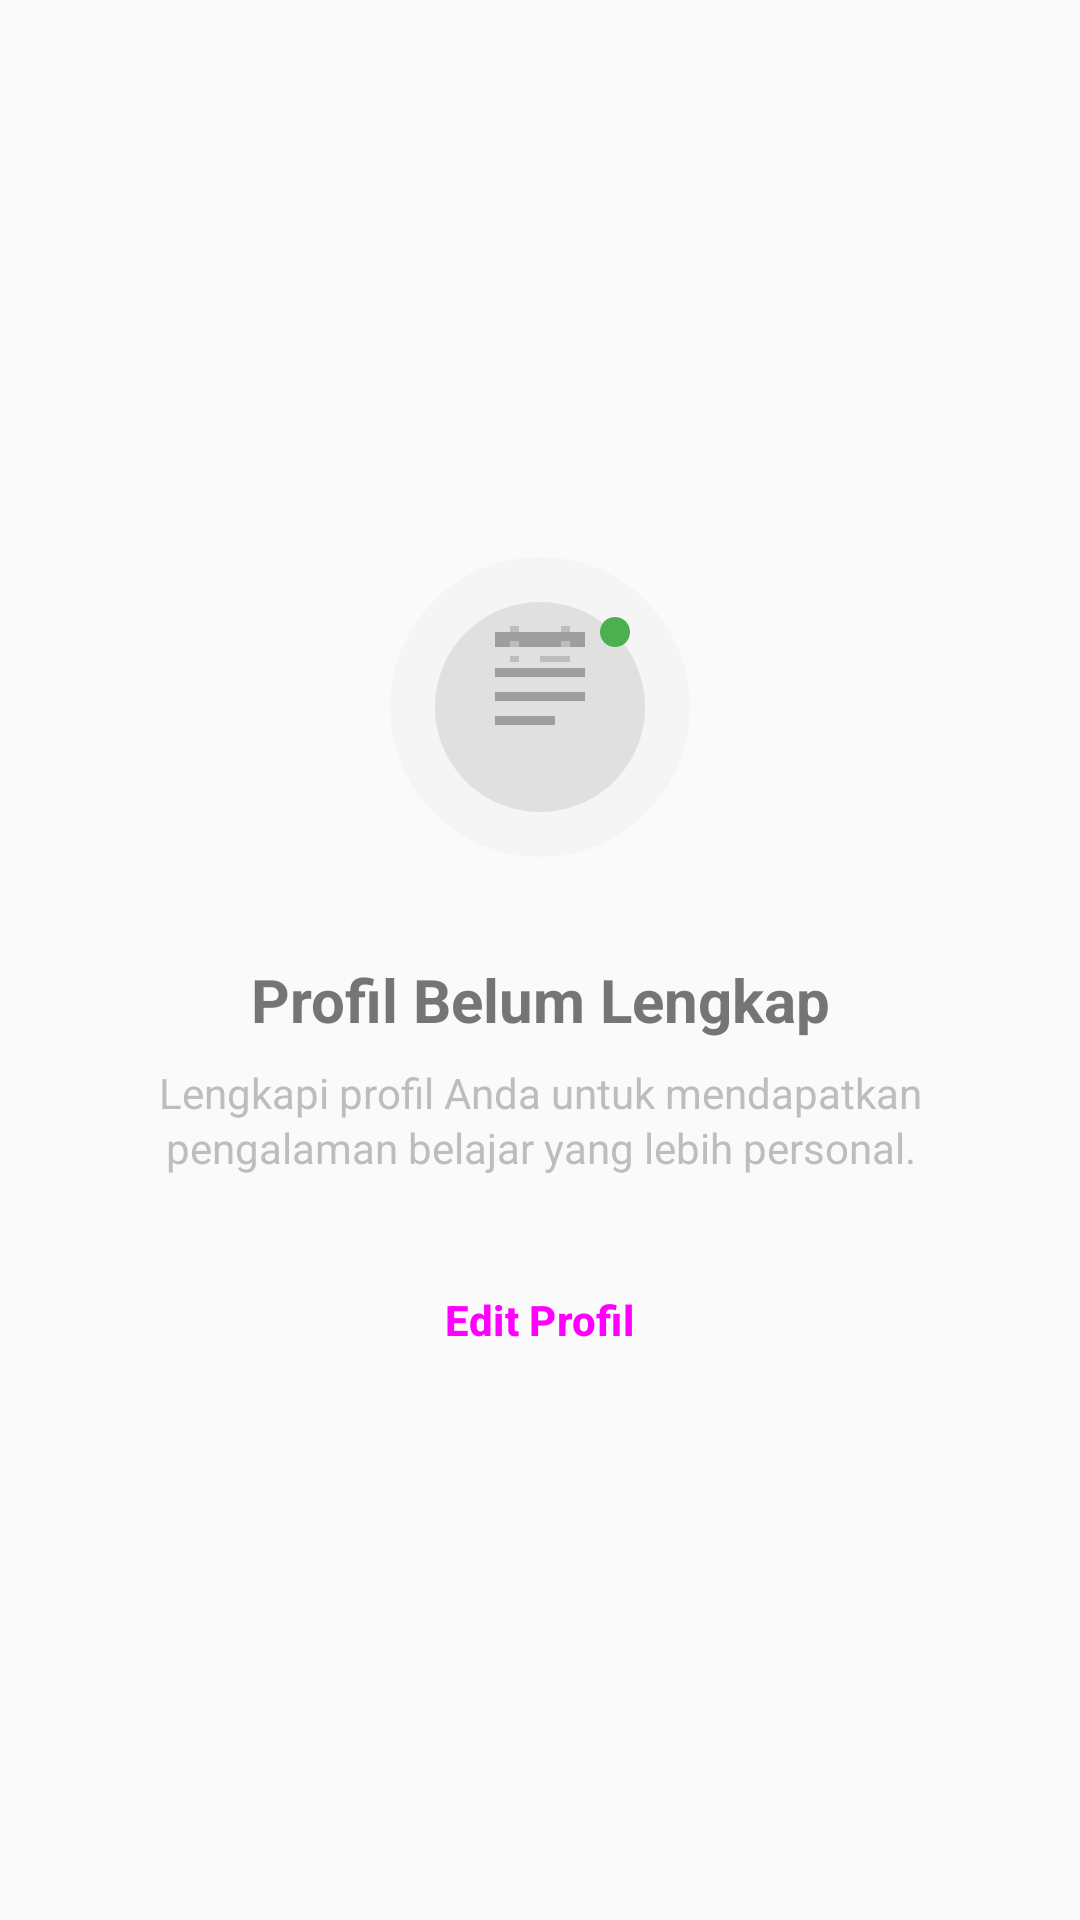

Screen size 1080×1920. Icon name, then its box in pixels as {"left": x1, "top": y1, "right": x2, "bottom": y2}:
Empty profile state: {"left": 435, "top": 602, "right": 645, "bottom": 812}
